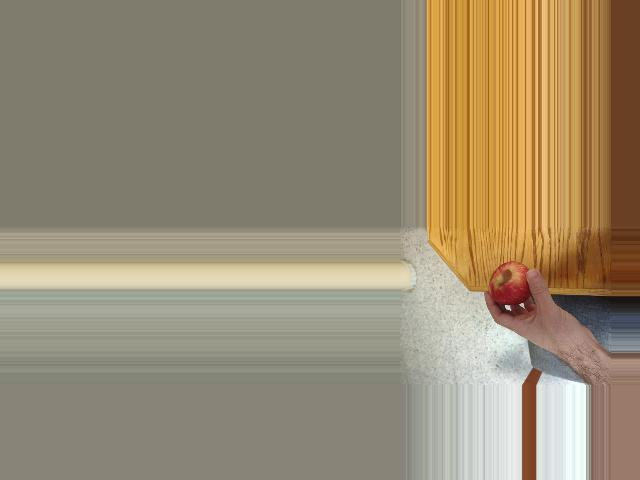apple: (485, 262, 539, 306)
